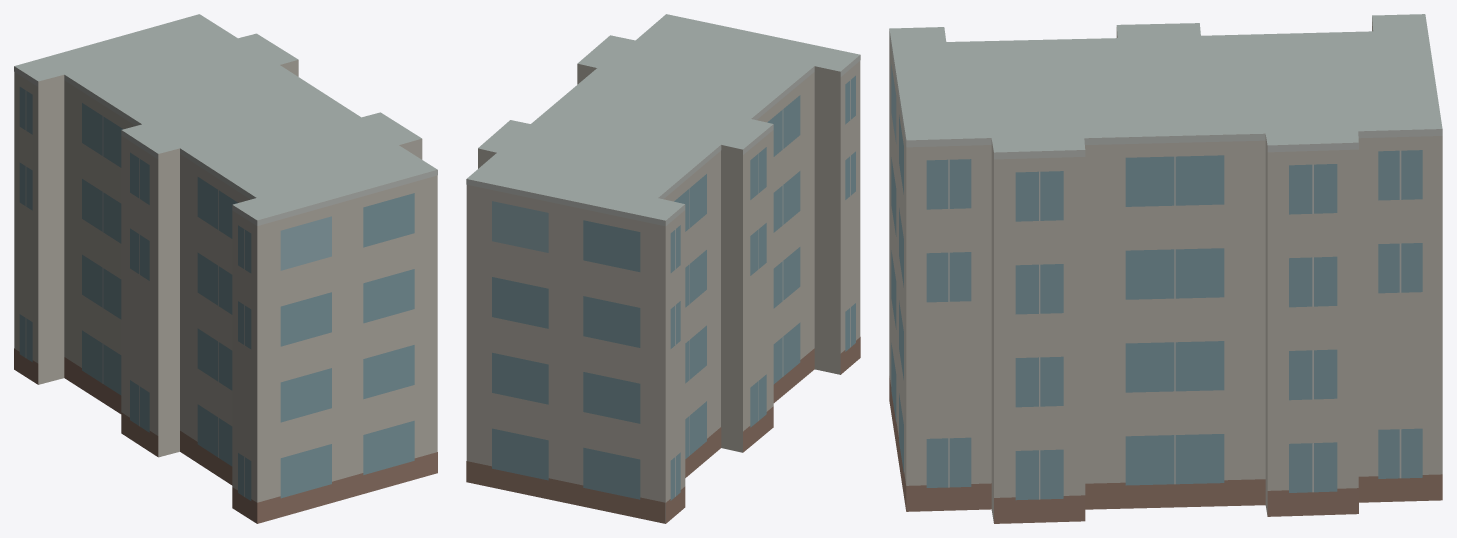
The model's file is survey-upis-32704204.glb.
The picture shows the model from 3 angles, left to right: view 1: azimuth 30°, elevation 25°; view 2: azimuth 150°, elevation 25°; view 3: azimuth 270°, elevation 25°; orthographic projection. The views are drawn at different scales.
Parts seen in each view (by area): view 1: survey-upis-32704204.tmp; view 2: survey-upis-32704204.tmp; view 3: survey-upis-32704204.tmp.
Boxes of the visible parts, bbox=[...] form: survey-upis-32704204.tmp: bbox=[14, 14, 437, 523]; survey-upis-32704204.tmp: bbox=[466, 14, 860, 523]; survey-upis-32704204.tmp: bbox=[889, 14, 1442, 523].
Size of the model in its own units: 10.45 by 13.05 by 17.63.
